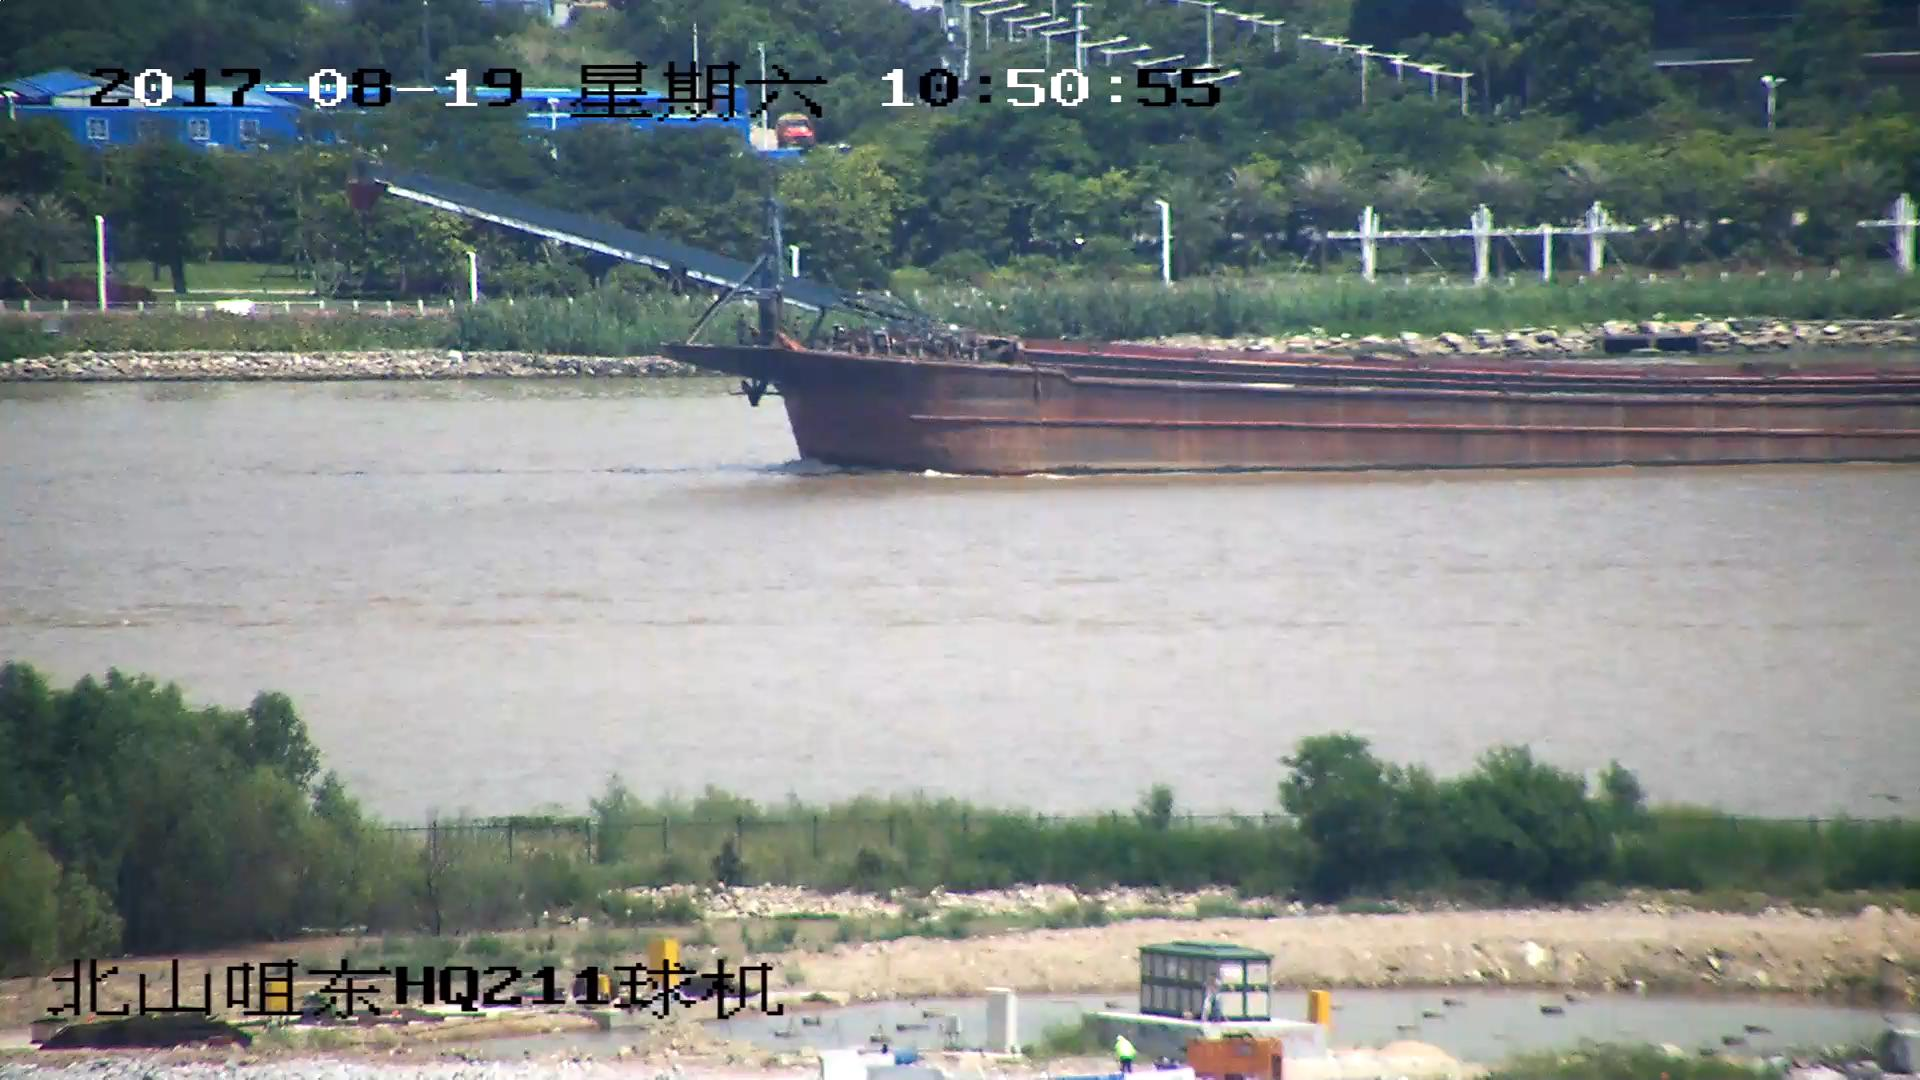bulk cargo carrier: (361, 164, 1920, 476)
